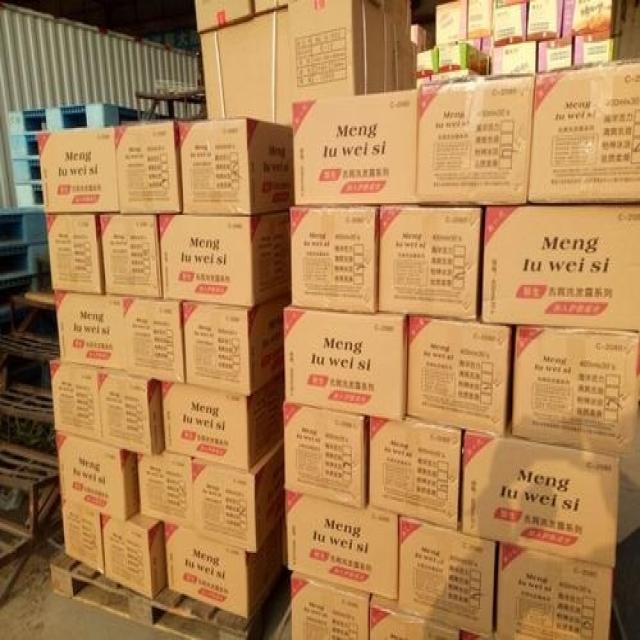box: (461, 432, 620, 570), (483, 205, 640, 333), (512, 326, 640, 457), (529, 58, 640, 205), (417, 77, 539, 205), (291, 89, 419, 207), (283, 305, 407, 422), (157, 210, 289, 307), (407, 314, 511, 435), (398, 515, 498, 638), (376, 205, 481, 319), (164, 522, 284, 621), (285, 492, 398, 597), (497, 541, 614, 640), (161, 375, 283, 469), (178, 118, 293, 215), (200, 7, 292, 126), (369, 415, 461, 531), (193, 440, 285, 555), (183, 299, 283, 396), (291, 203, 379, 312), (282, 403, 367, 505), (55, 432, 140, 521), (36, 126, 120, 215), (114, 121, 180, 215), (101, 369, 165, 457), (122, 297, 184, 386), (99, 213, 163, 299), (291, 572, 371, 640), (102, 514, 166, 599), (54, 294, 124, 369), (137, 452, 197, 532), (45, 213, 102, 292), (50, 357, 101, 440), (369, 596, 460, 640), (61, 500, 102, 577), (195, 0, 255, 36), (490, 38, 538, 77), (493, 0, 527, 48), (527, 0, 563, 41), (435, 0, 468, 44), (439, 44, 489, 73), (536, 36, 573, 72), (575, 31, 614, 65), (572, 2, 613, 32), (467, 0, 493, 38), (415, 48, 439, 77)
